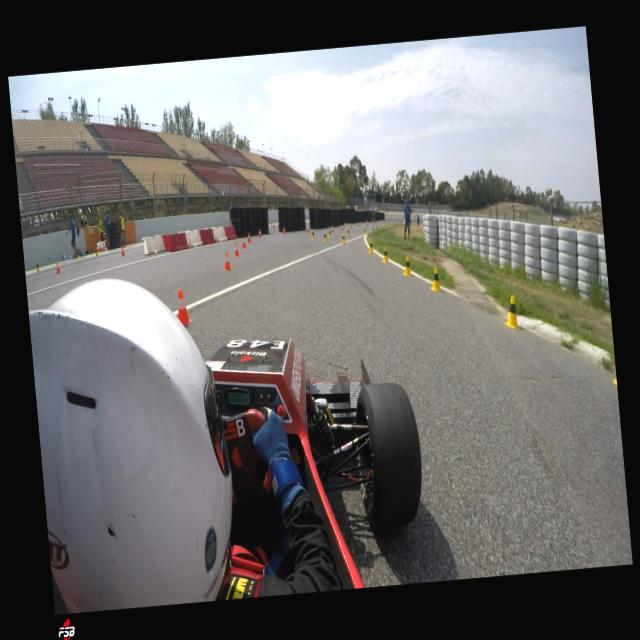orange_cone: (175, 288, 192, 325), (222, 252, 231, 270), (232, 242, 240, 256), (240, 236, 247, 248), (55, 260, 60, 274), (120, 244, 124, 256), (246, 232, 250, 242), (257, 228, 261, 238), (102, 242, 106, 251), (282, 227, 286, 234), (331, 224, 334, 232), (306, 225, 309, 232), (341, 223, 344, 230), (349, 223, 352, 228), (272, 222, 274, 228)
yellow_cone: (502, 294, 519, 328), (428, 267, 441, 291), (401, 256, 411, 276), (381, 246, 388, 262), (367, 240, 373, 253), (35, 260, 39, 272), (322, 233, 327, 242), (94, 246, 98, 256), (341, 234, 345, 244), (310, 230, 314, 238), (328, 229, 331, 237), (346, 228, 349, 235), (363, 228, 366, 235), (372, 226, 374, 230)
